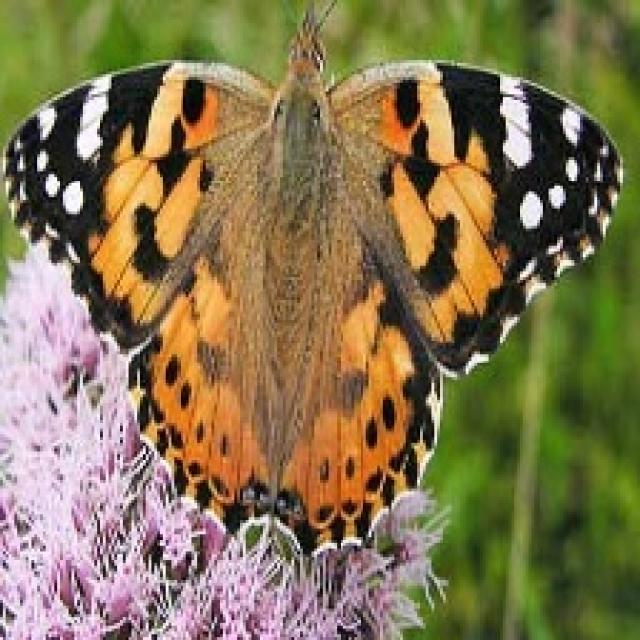butterfly: (0, 0, 623, 563)
